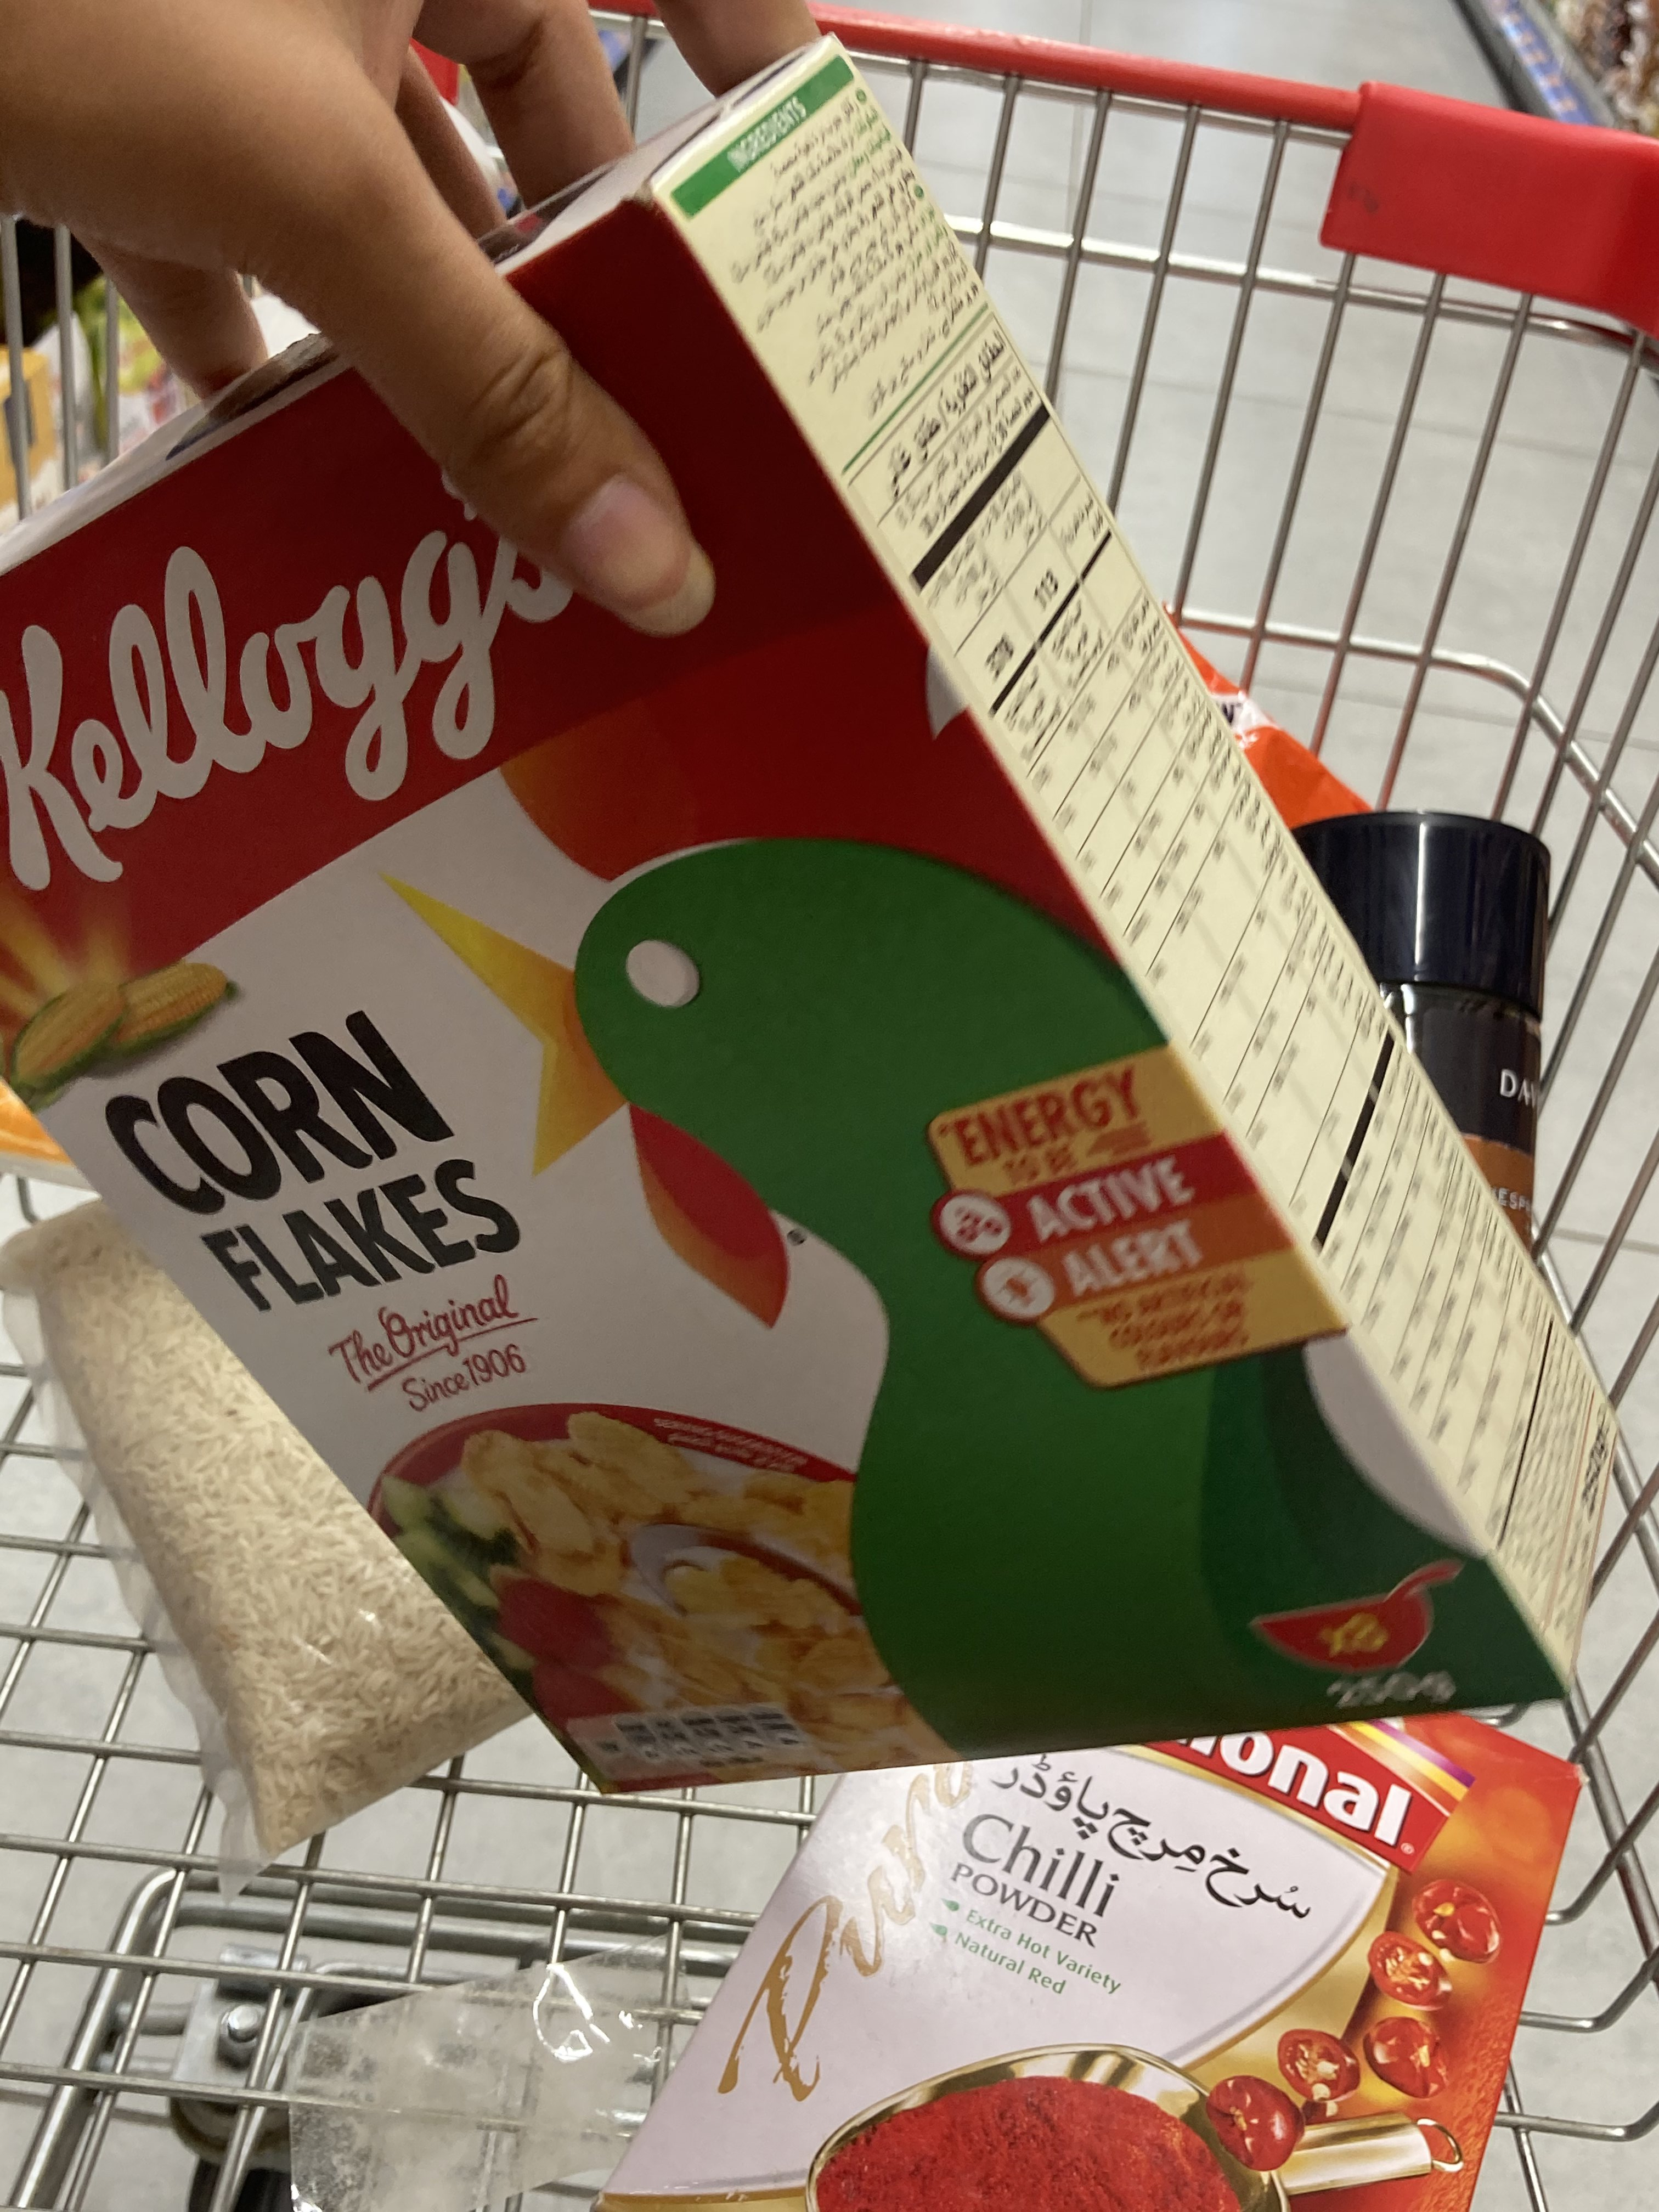Kellogg's Corn Flakes: (5, 37, 1659, 1796)
